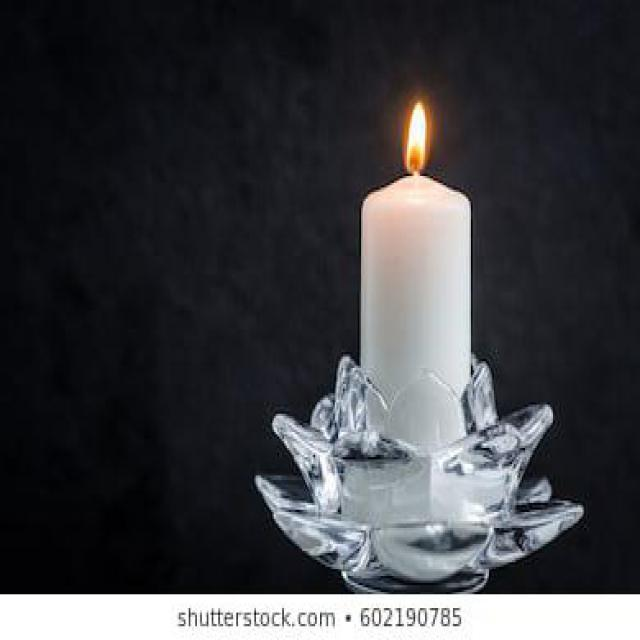Fire: (405, 100, 432, 174)
